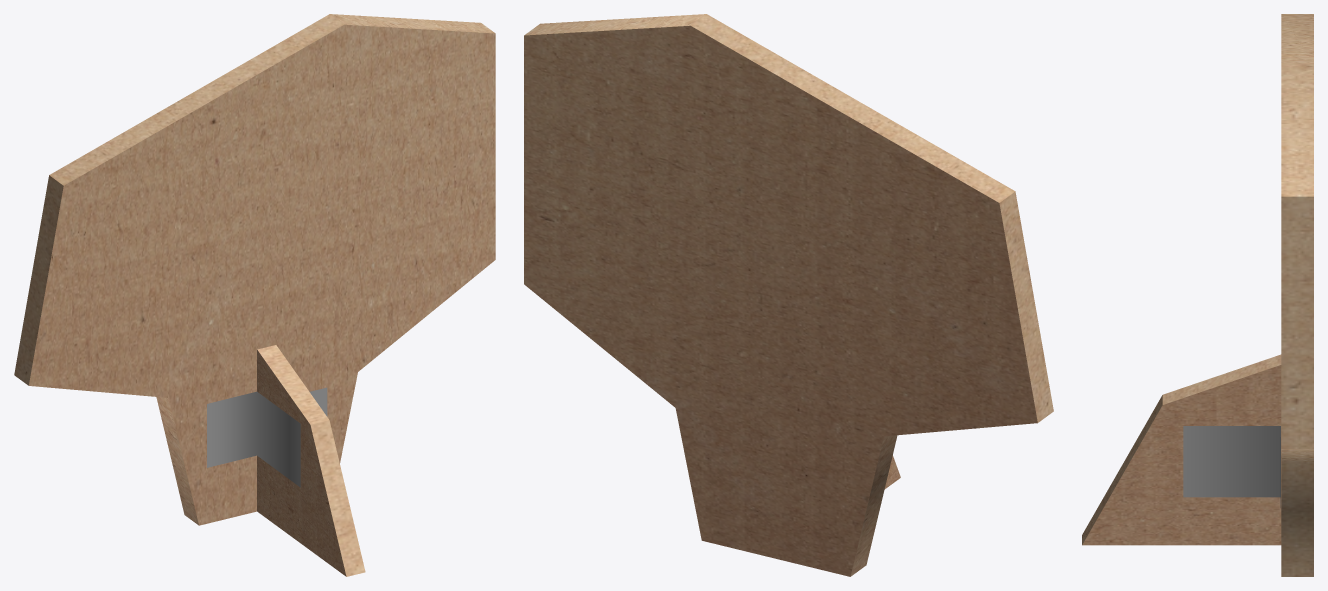
Rendered from Demon.fbx.
The picture shows the model from 3 angles, left to right: view 1: azimuth 30°, elevation 25°; view 2: azimuth 150°, elevation 25°; view 3: azimuth 270°, elevation 25°; orthographic projection. The views are drawn at different scales.
Parts seen in each view (by area): view 1: Demon; view 2: Demon; view 3: Demon.
Part boxes in pixels (box(x1,y1,x2,y2)): Demon: box(14, 14, 495, 576); Demon: box(524, 14, 1053, 576); Demon: box(1082, 14, 1313, 576).
Bounding box in the file's own units: 1711 × 1630 × 660.
